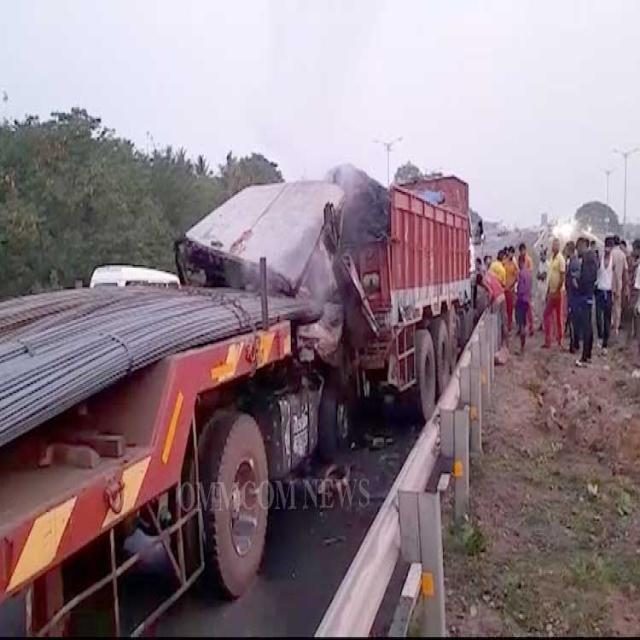accident: (0, 288, 325, 636), (176, 166, 479, 455)
